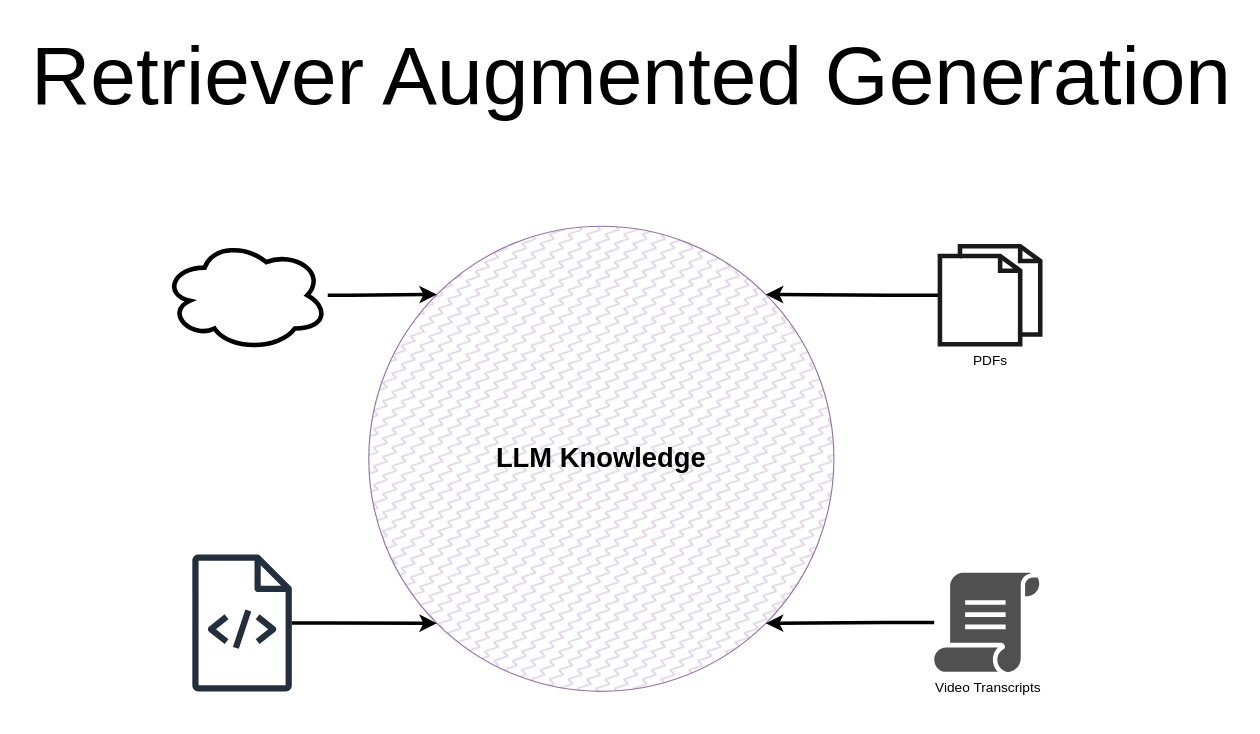
Image size: 1260x734. Some labels were removed from this diagram. Here are the shapes that lost their labels. From the top down, the centre of each, then its label:
point 245,294: Websites
point 241,622: Code
